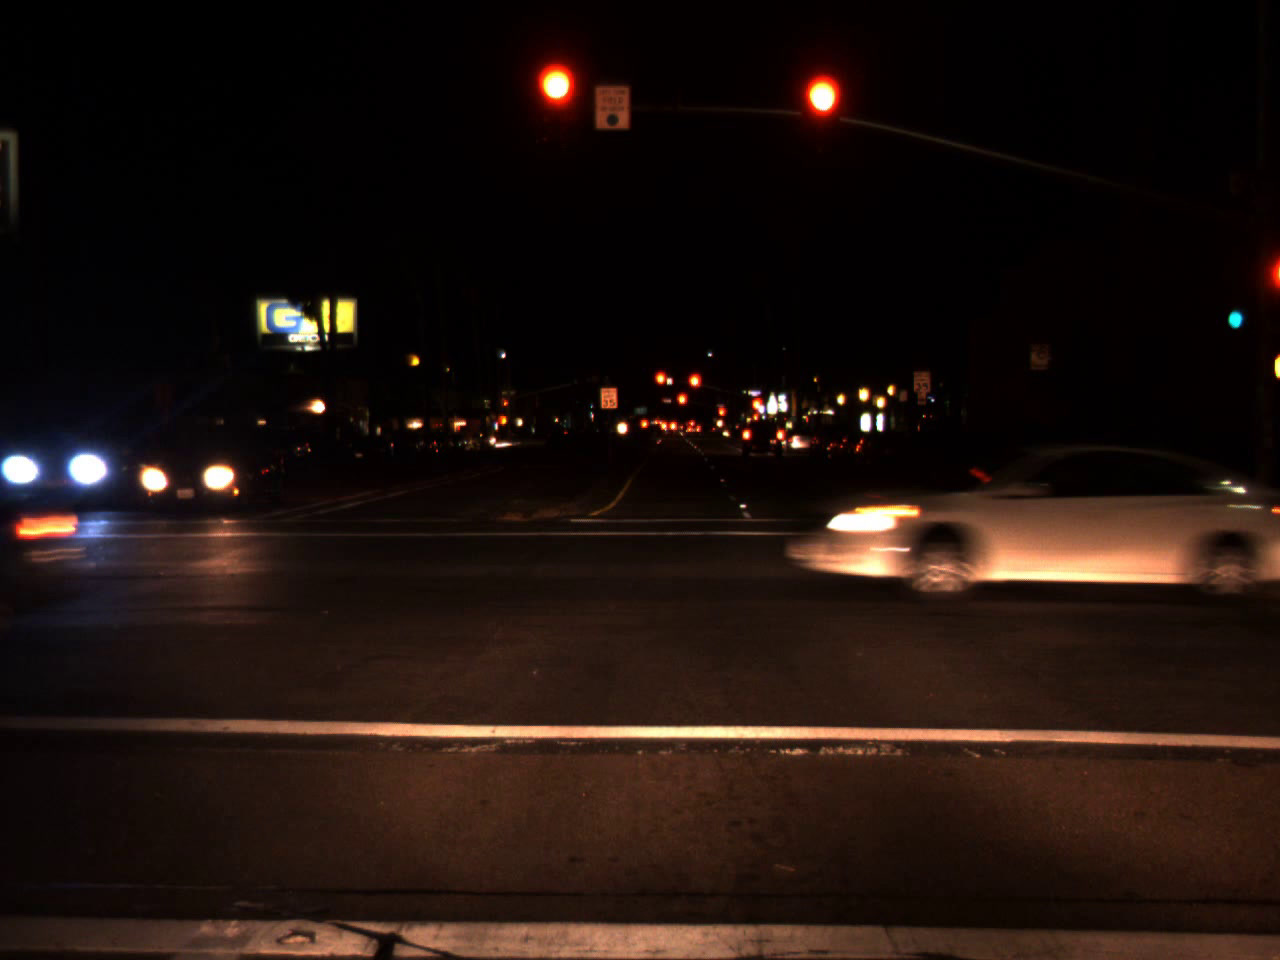stop: (537, 65, 577, 143), (802, 75, 842, 153), (653, 369, 668, 401), (686, 372, 702, 401), (676, 391, 688, 418), (750, 397, 762, 424), (717, 406, 726, 427), (503, 399, 509, 412)
